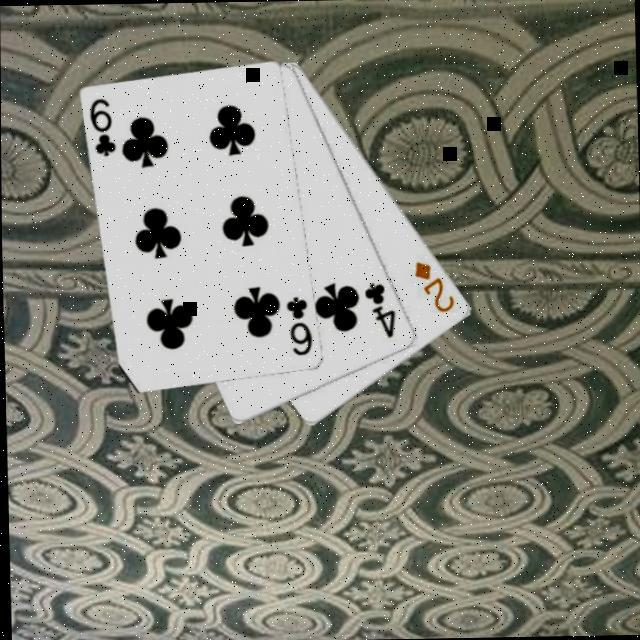2D: (412, 256, 458, 315)
4C: (362, 278, 399, 340)
6C: (282, 292, 316, 358), (86, 94, 120, 160)
